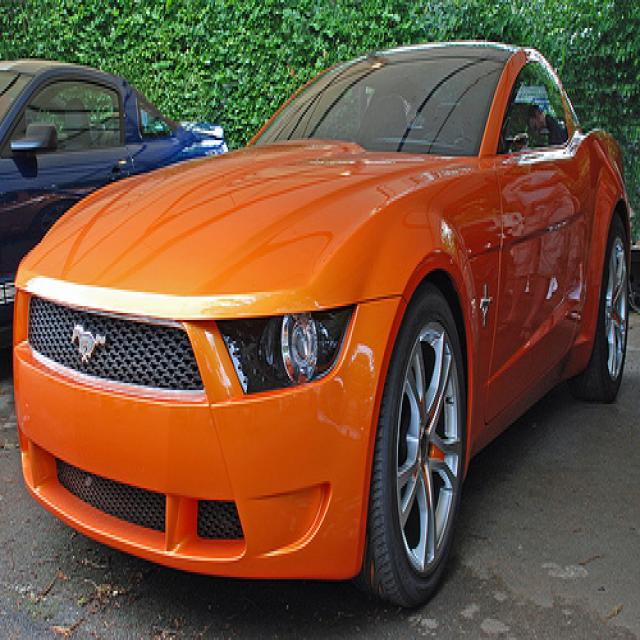Car: (15, 28, 637, 593), (0, 54, 231, 365)
